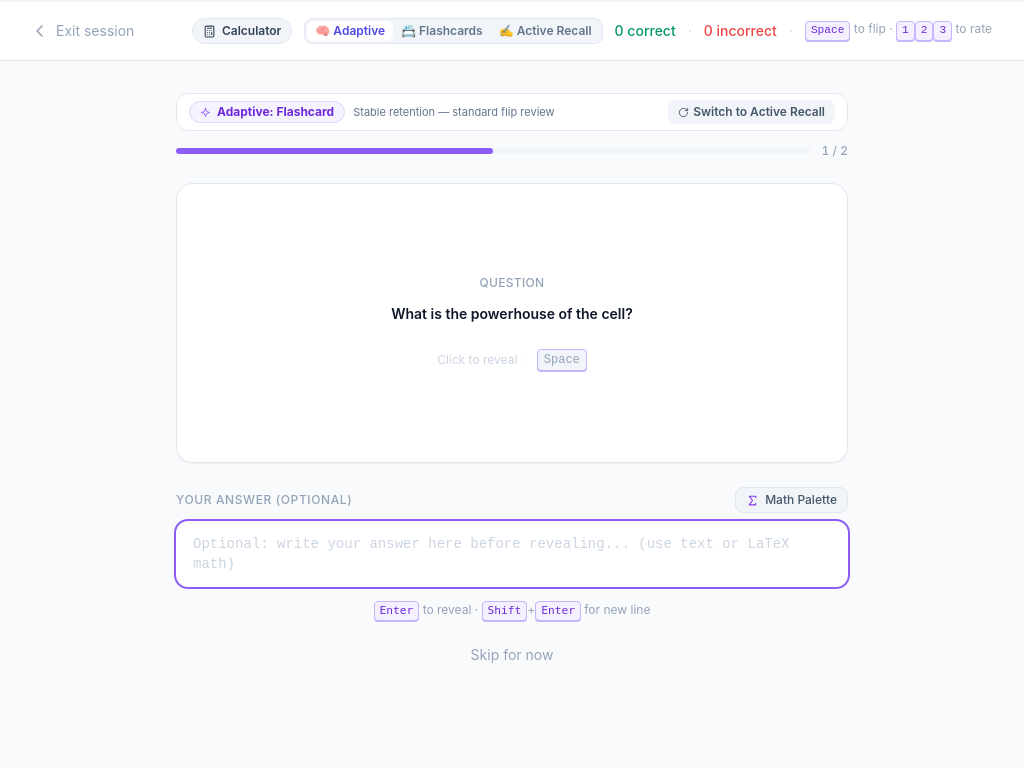
Test case: StudySession Progress Saving › handles Exit Session by saving progress, updating DB, and showing completion summary
expect the text "What is the powerhouse of the cell?" is shown: met, box [391,305,633,322]
Note: Answer first card
Click the element with test id "flashcard" at {"x": 512, "y": 323}, box [176,183,848,463]
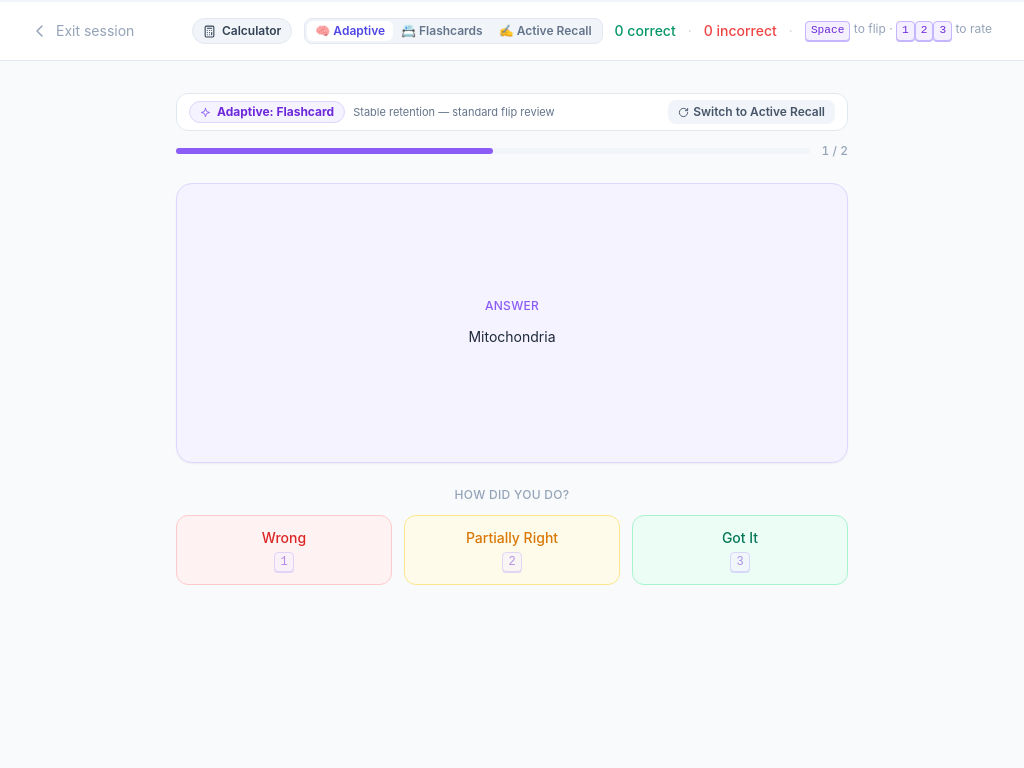
expect the text "Mitochondria" is shown: met, box [468,328,556,345]
Click the text "Got It" at {"x": 740, "y": 538}, box [722,528,758,548]
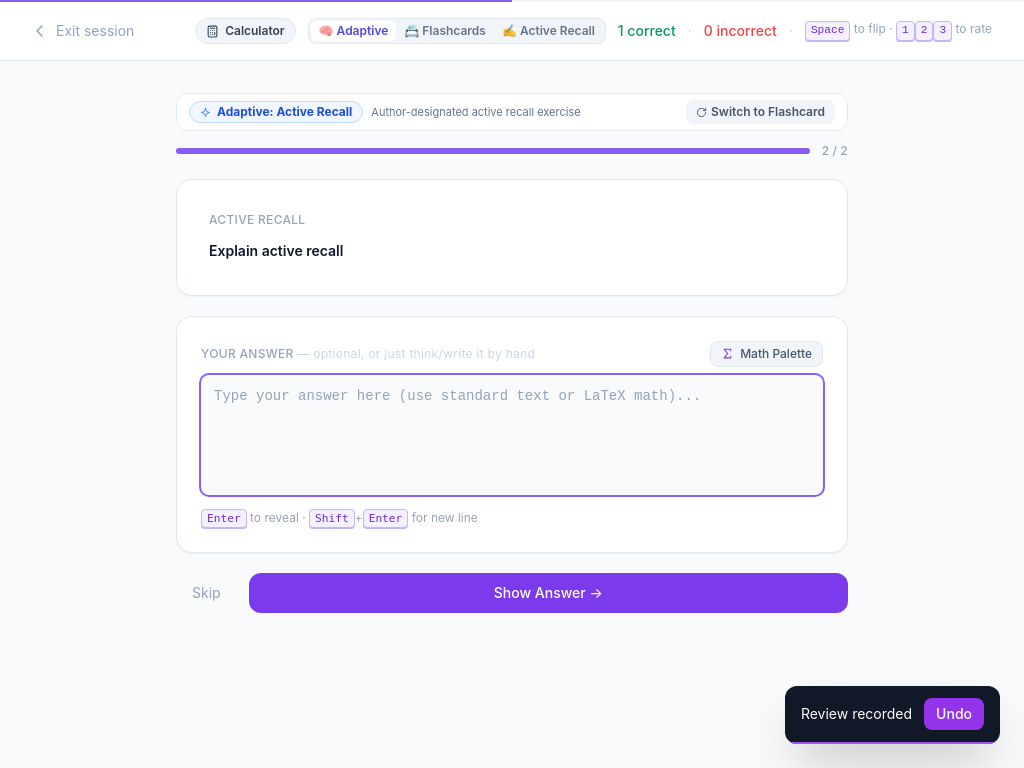
expect the text "Explain active recall" is shown: met, box [209,242,343,259]
Note: Press Exit Session
Click the button "Exit session" at {"x": 83, "y": 31}, box [32,21,134,41]
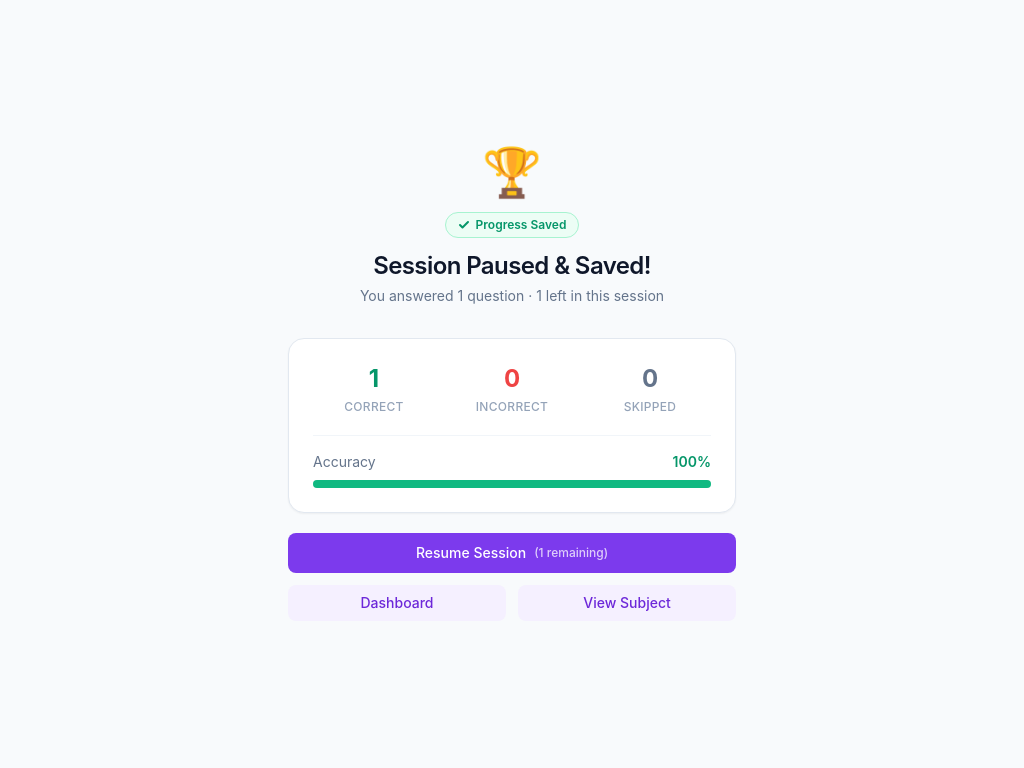
expect the heading "Session Paused & Saved!" is shown: met, box [373,250,651,280]
expect the text "Progress Saved" is shown: met, box [445,212,579,238]
expect the text "You answered 1 question · 1 left in this session" is shown: met, box [360,286,664,304]
